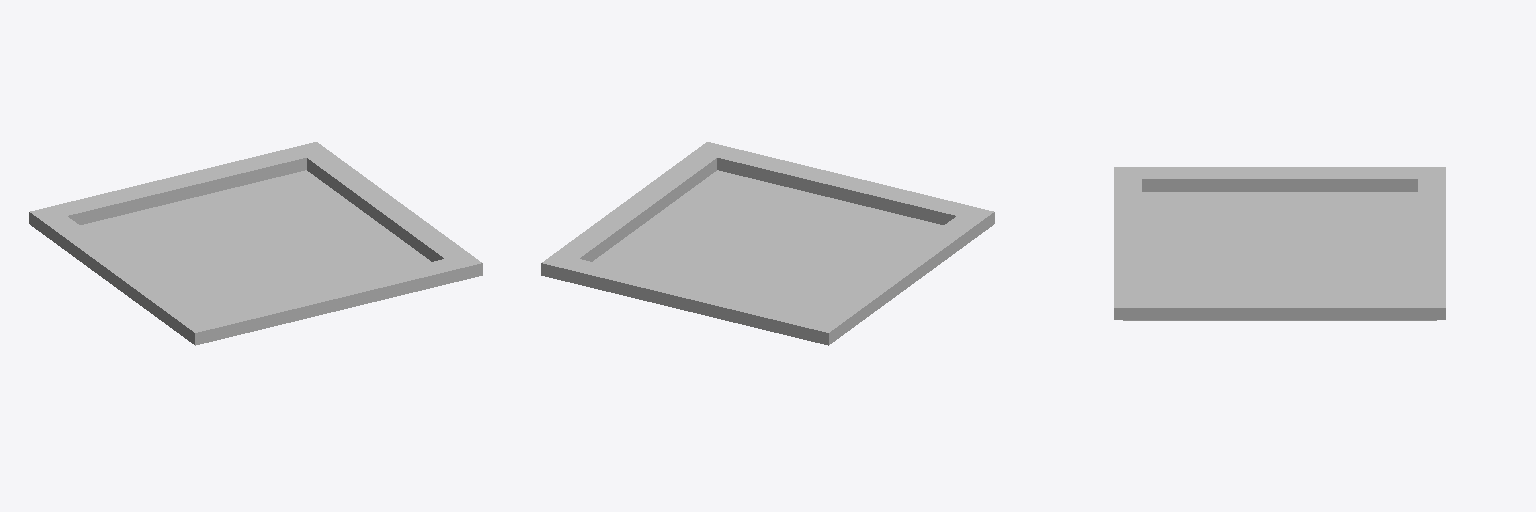
The model's file is plate.obj.
3 views of the same model, side by side, from view 1: azimuth 30°, elevation 25°; view 2: azimuth 150°, elevation 25°; view 3: azimuth 270°, elevation 25° (orthographic).
Visible parts, largest first — view 1: Box001; view 2: Box001; view 3: Box001.
Part boxes in pixels (bbox=[...]): Box001: bbox=[29, 142, 482, 345]; Box001: bbox=[541, 142, 994, 345]; Box001: bbox=[1114, 167, 1445, 320].
Bounding box in the file's own units: 0.744 × 0.0919 × 0.744.